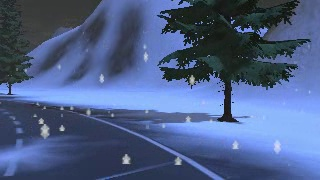Lane: (0, 98, 223, 179)
